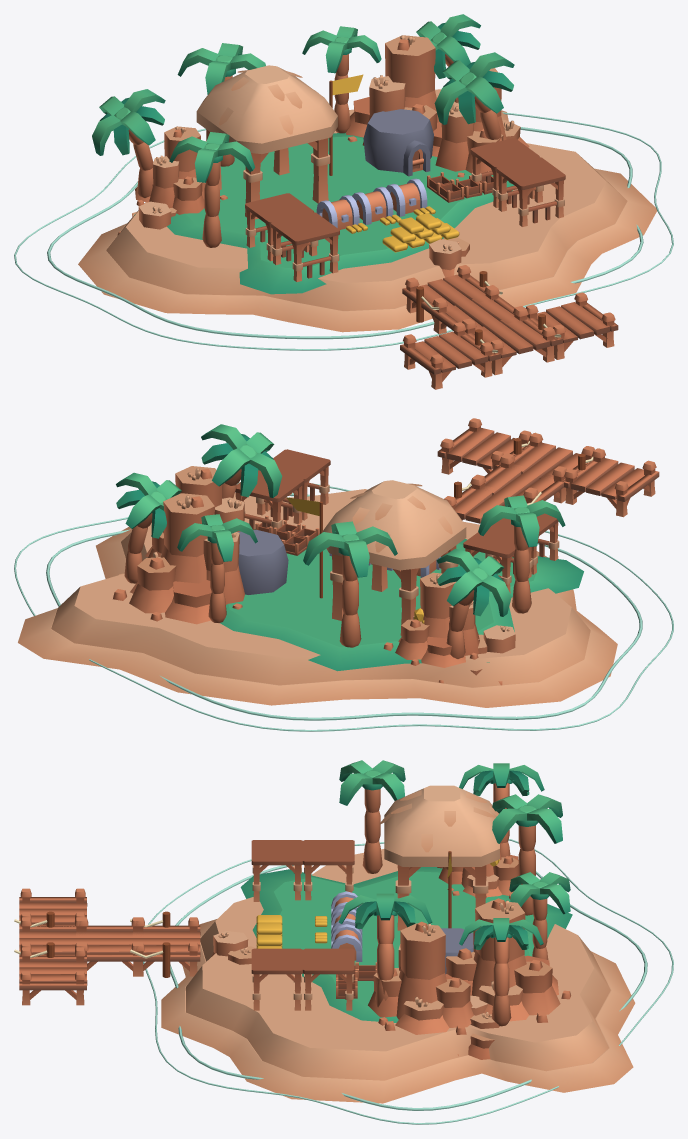
File: gold.glb
3 views of the same model, one above another, from view 1: azimuth 30°, elevation 25°; view 2: azimuth 150°, elevation 25°; view 3: azimuth 270°, elevation 25° (orthographic). The views are drawn at different scales.
Visible parts, largest first — view 1: Beach • sandy silhouette.002, Island ground cover.002, Wet sand shelf.002, structure-roof.003, rocks-sand-b.001, palm-detailed-bend.008, tower-base-door.001, palm-detailed-bend.009, rocks-sand-b.003, structure-platform-dock.001, rocks-sand-b.002, palm-straight.007 (+18 smaller); view 2: Beach • sandy silhouette.002, Wet sand shelf.002, Island ground cover.002, structure-roof.003, rocks-sand-b.001, rocks-sand-b.003, palm-detailed-bend.009, palm-detailed-bend.008, palm-straight.008, structure-platform-dock.001, palm-straight.007, palm-detailed-bend.007 (+14 smaller); view 3: Beach • sandy silhouette.002, Wet sand shelf.002, Island ground cover.002, structure-roof.003, rocks-sand-b.002, rocks-sand-b.001, palm-straight.007, palm-straight.008, palm-detailed-bend.008, palm-detailed-bend.007, structure-platform-dock.002, Dock • pier 0.002 (+16 smaller).
Boxes of the visible parts, x1=… form: Beach • sandy silhouette.002: x1=106, y1=89, x2=627, y2=310; Island ground cover.002: x1=134, y1=133, x2=514, y2=294; Wet sand shelf.002: x1=78, y1=110, x2=656, y2=332; structure-roof.003: x1=196, y1=65, x2=337, y2=219; rocks-sand-b.001: x1=346, y1=35, x2=456, y2=145; palm-detailed-bend.008: x1=434, y1=52, x2=514, y2=141; tower-base-door.001: x1=363, y1=109, x2=433, y2=176; palm-detailed-bend.009: x1=92, y1=89, x2=165, y2=197; rocks-sand-b.003: x1=135, y1=126, x2=227, y2=214; structure-platform-dock.001: x1=400, y1=322, x2=496, y2=389; rocks-sand-b.002: x1=430, y1=68, x2=529, y2=177; palm-straight.007: x1=169, y1=132, x2=254, y2=247; Beach • sandy silhouette.002: x1=51, y1=489, x2=590, y2=687; Wet sand shelf.002: x1=18, y1=527, x2=617, y2=707; Island ground cover.002: x1=220, y1=529, x2=583, y2=671; structure-roof.003: x1=322, y1=480, x2=466, y2=635; rocks-sand-b.001: x1=113, y1=493, x2=244, y2=624; rocks-sand-b.003: x1=383, y1=572, x2=479, y2=667; palm-detailed-bend.009: x1=436, y1=548, x2=511, y2=658; palm-detailed-bend.008: x1=201, y1=424, x2=282, y2=498; palm-straight.008: x1=303, y1=521, x2=397, y2=647; structure-platform-dock.001: x1=562, y1=448, x2=659, y2=517; palm-straight.007: x1=478, y1=495, x2=565, y2=613; palm-detailed-bend.007: x1=116, y1=472, x2=181, y2=583; Beach • sandy silhouette.002: x1=185, y1=849, x2=610, y2=1080; Wet sand shelf.002: x1=161, y1=919, x2=635, y2=1103; Island ground cover.002: x1=240, y1=867, x2=572, y2=1022; structure-roof.003: x1=379, y1=785, x2=499, y2=930; rocks-sand-b.002: x1=368, y1=921, x2=473, y2=1034; rocks-sand-b.001: x1=446, y1=898, x2=570, y2=1022; palm-straight.007: x1=339, y1=760, x2=405, y2=873; palm-straight.008: x1=492, y1=794, x2=562, y2=915; palm-detailed-bend.008: x1=338, y1=893, x2=432, y2=1007; palm-detailed-bend.007: x1=459, y1=918, x2=543, y2=1026; structure-platform-dock.002: x1=19, y1=947, x2=87, y2=1005; Dock • pier 0.002: x1=132, y1=917, x2=200, y2=976.
Bounding box in the file's own units: 26.64 × 6.6 × 25.63.
Materials: 16 (12 with a texture image).
